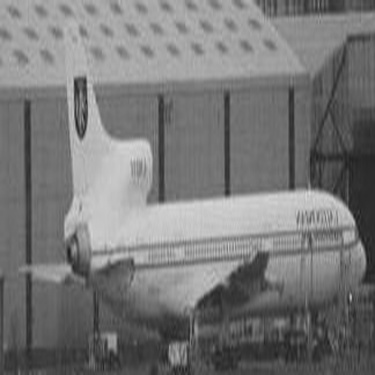airplane: (9, 5, 370, 369)
